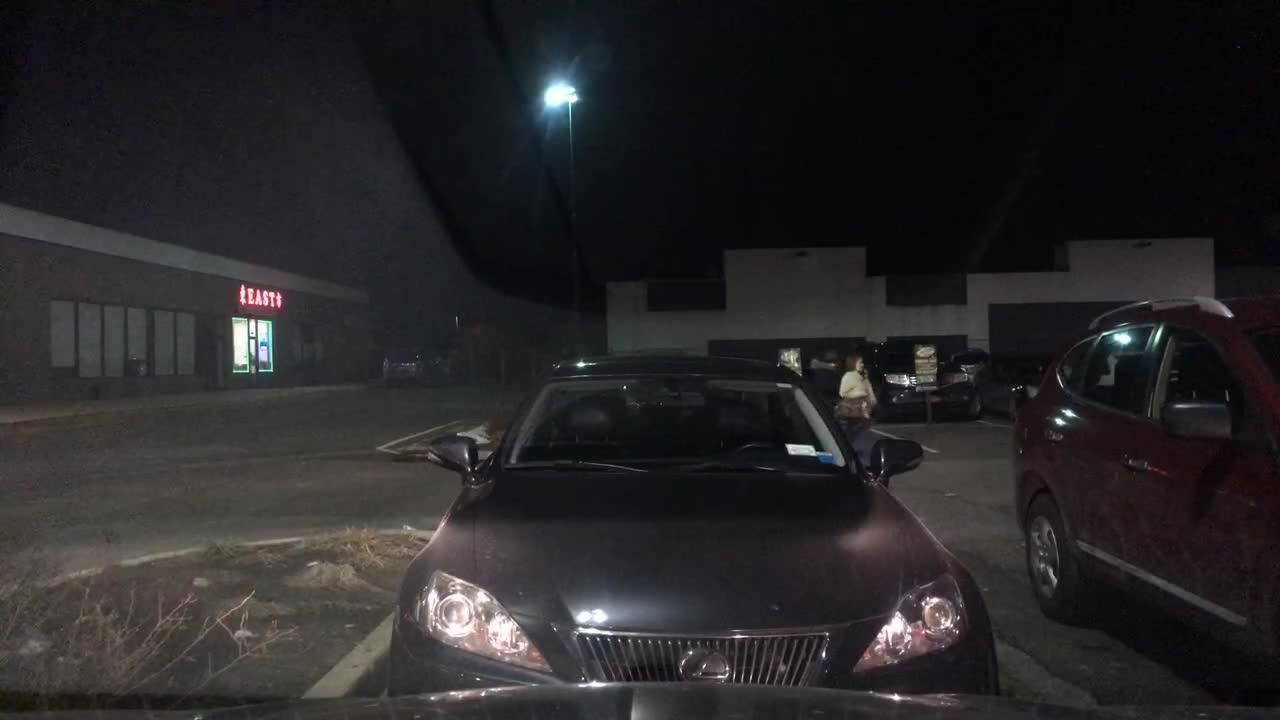lexus: (675, 647, 739, 687)
